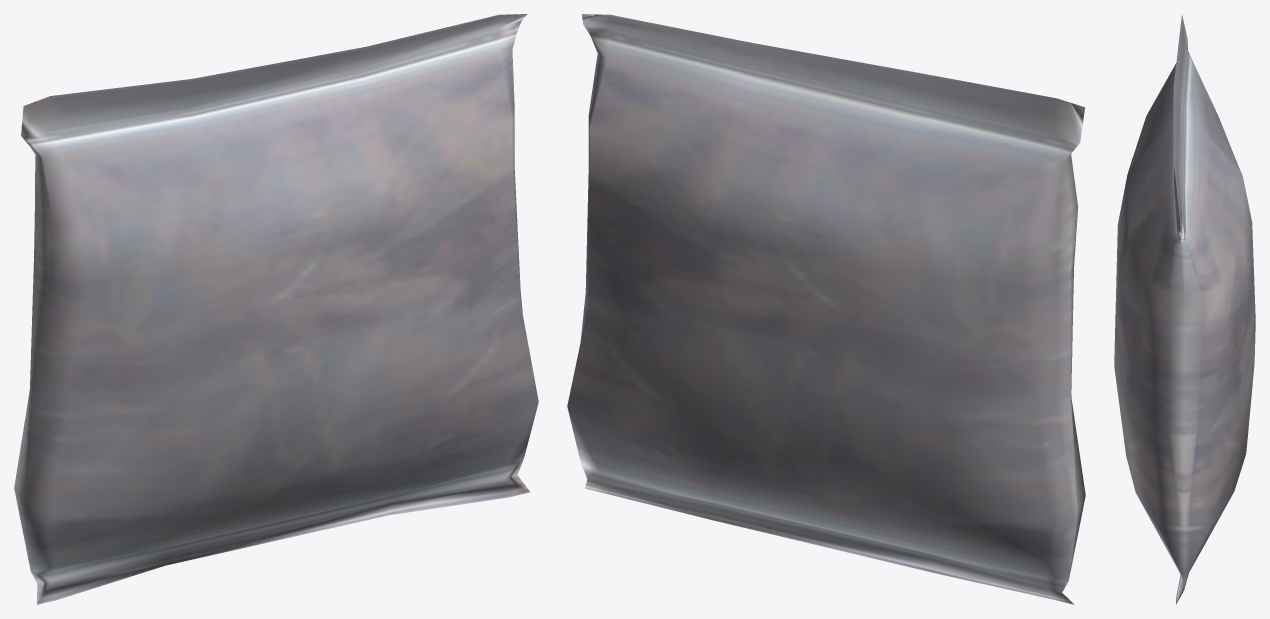
File: WeedBag2.fbx
The picture shows the model from 3 angles, left to right: view 1: azimuth 30°, elevation 25°; view 2: azimuth 150°, elevation 25°; view 3: azimuth 270°, elevation 25°; orthographic projection. The views are drawn at different scales.
Visible parts, largest first — view 1: WeedBag2; view 2: WeedBag2; view 3: WeedBag2.
Boxes of the visible parts, left/top/right/bottom form: WeedBag2: left=14, top=14, right=538, bottom=604; WeedBag2: left=567, top=14, right=1085, bottom=604; WeedBag2: left=1114, top=15, right=1255, bottom=604.
Bounding box in the file's own units: 18.9 × 18.12 × 5.81.
